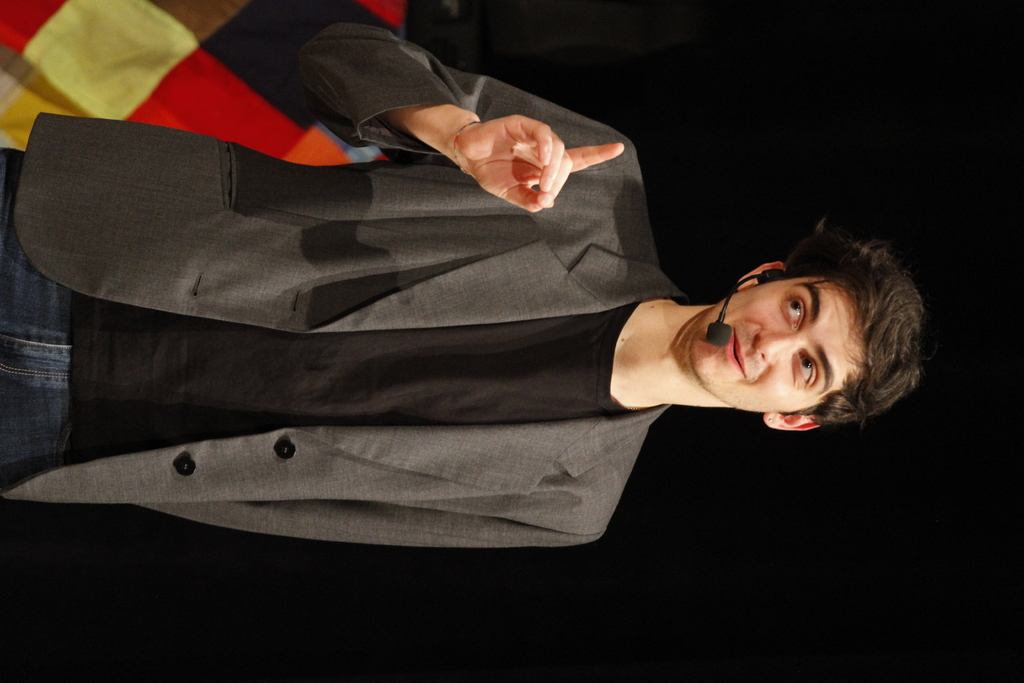Human_hand: (454, 97, 587, 193)
